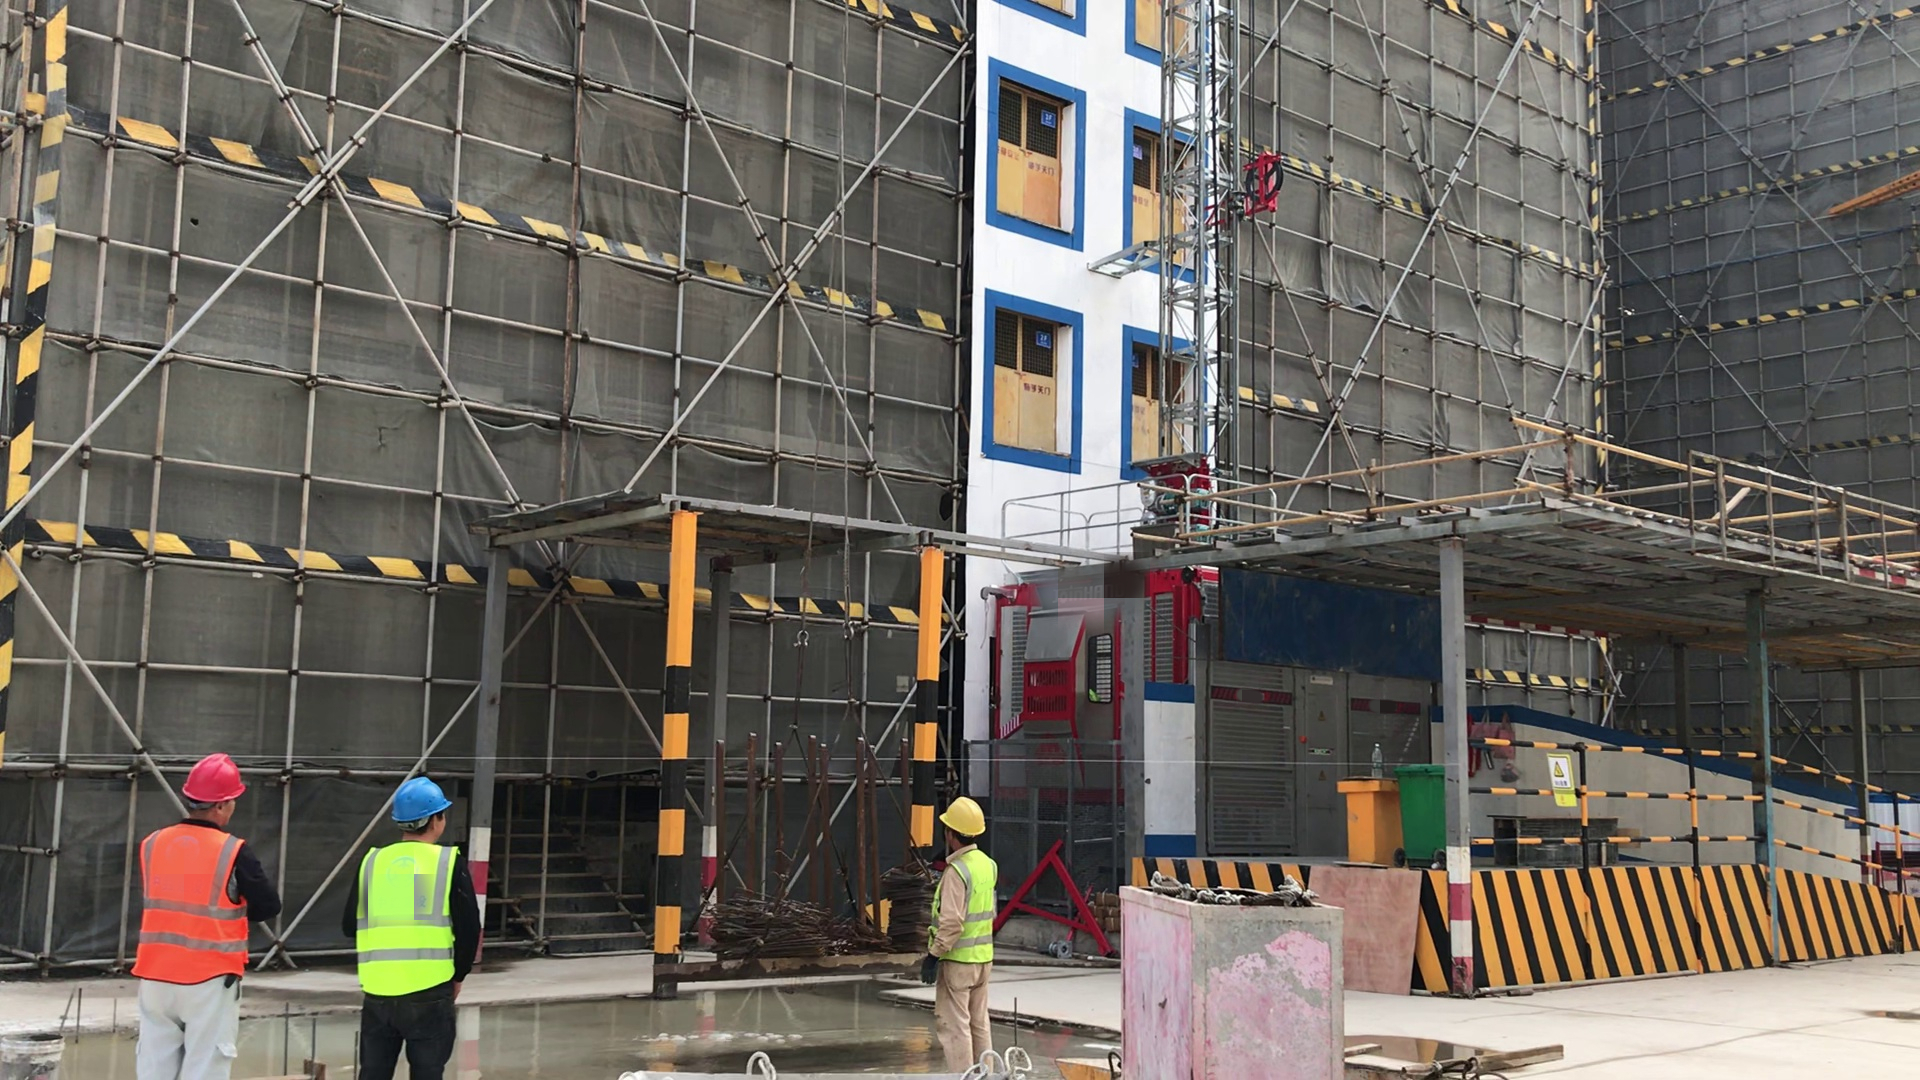helmet: (388, 772, 463, 827), (178, 749, 239, 813), (935, 790, 993, 848)
person: (133, 749, 280, 1080), (339, 763, 489, 1080), (917, 793, 1006, 1078)
vest: (135, 821, 251, 994), (351, 840, 465, 1000), (932, 845, 1003, 983)
